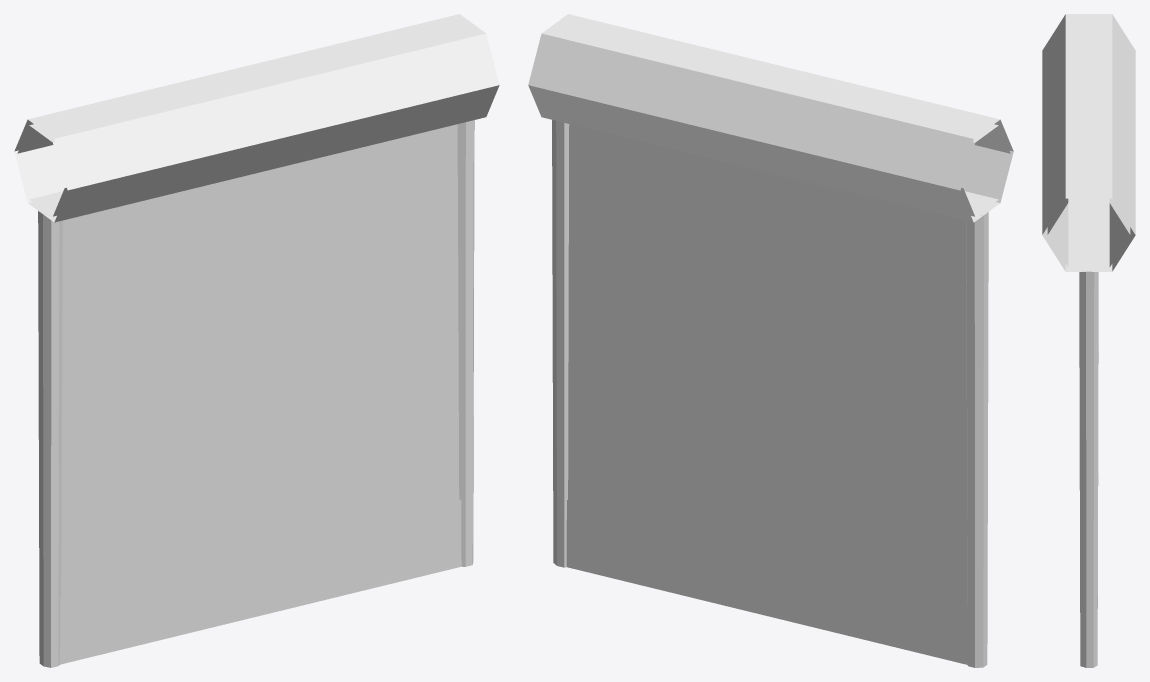
Rendered from Fence.obj.
3 renders of one model, left to right at view 1: azimuth 30°, elevation 25°; view 2: azimuth 150°, elevation 25°; view 3: azimuth 270°, elevation 25°, orthographic. The views are drawn at different scales.
Visible parts, largest first — view 1: Circle.001; view 2: Circle.001; view 3: Circle.001.
Part boxes in pixels (x1,y1,x2,y2): Circle.001: (14,14,499,667); Circle.001: (528,14,1013,667); Circle.001: (1042,14,1135,667).
Bounding box in the file's own units: 2 × 2.37 × 0.4274.
